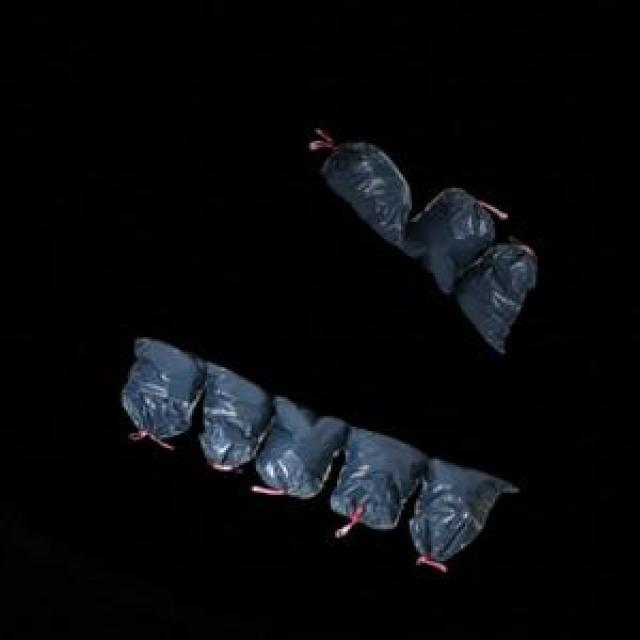Trashbag: (314, 124, 416, 248), (412, 464, 508, 560), (340, 428, 422, 534), (263, 399, 343, 500), (464, 244, 542, 346), (193, 378, 274, 473), (403, 188, 485, 281), (127, 346, 203, 438)
